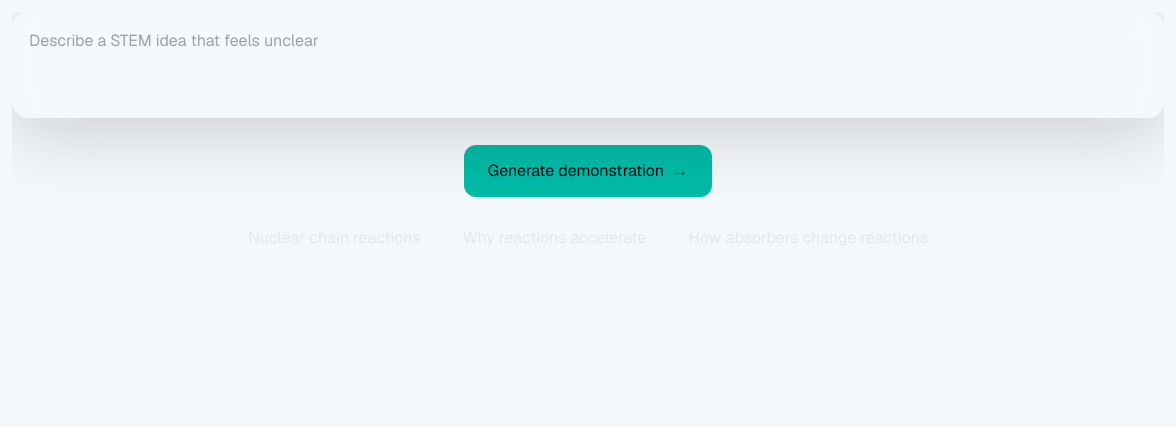
Test: AskDemoForm › shows 'Not currently supported' with suggestions for unsupported outcomes
Type "How do I bake sourdough bread?" into the text box named "What topic do you need help with?" at coordinates (588, 65), box [12,12,1164,118]
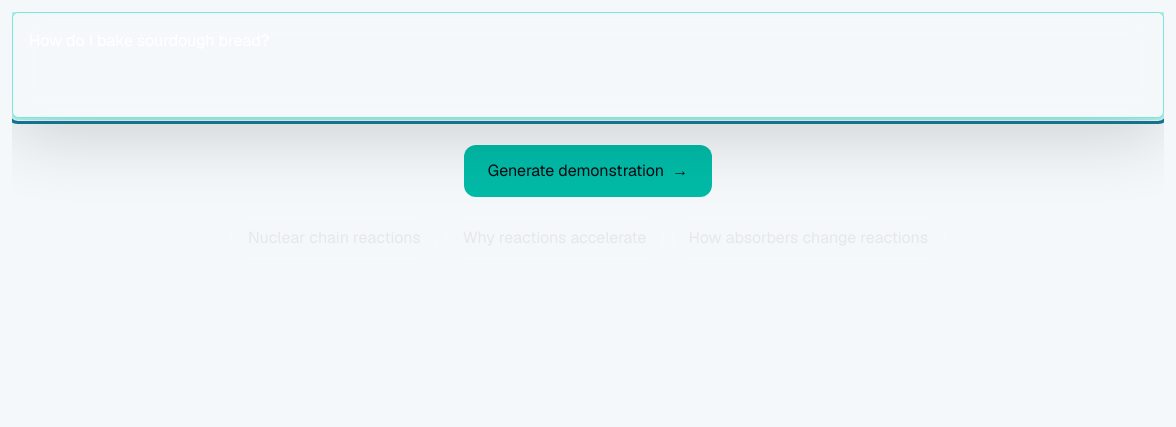
Click the button "Generate demonstration →" at coordinates (588, 171), box [464,145,712,197]
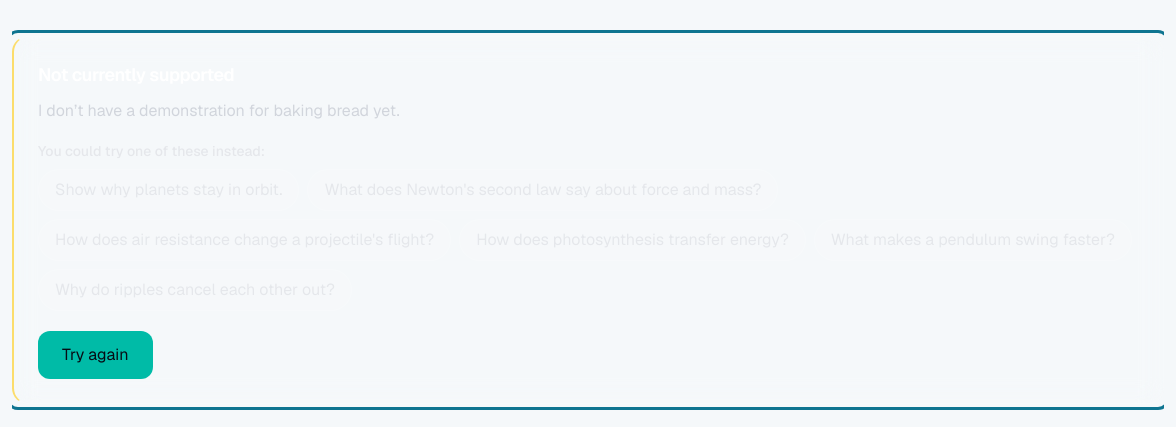
Result: the text "I don’t have a demonstration for baking bread yet." is shown at [38,100,400,121]
